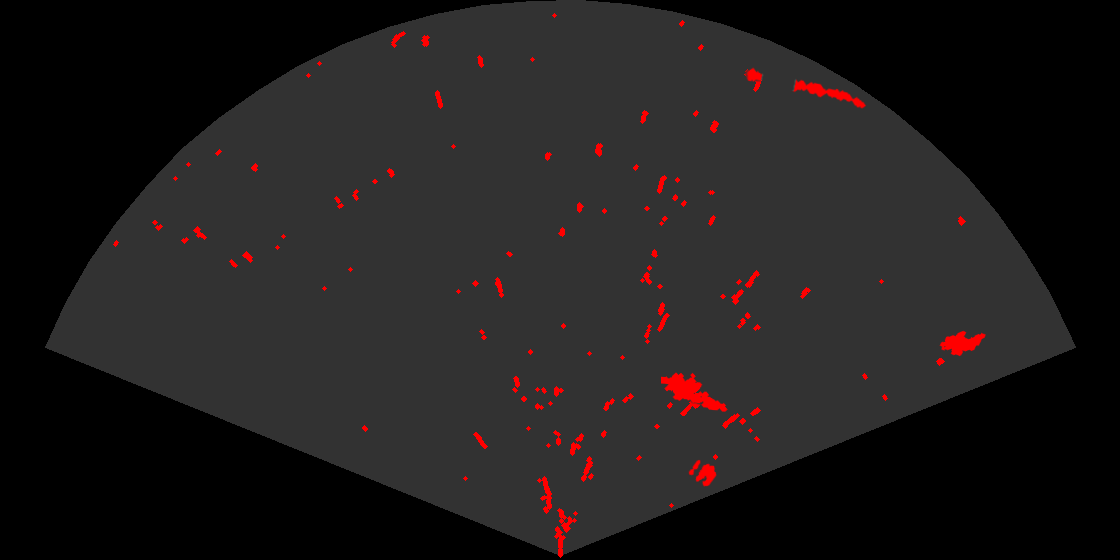AUV: (938, 329, 987, 358)
ball: (687, 458, 718, 488)
chain: (744, 66, 868, 110)
frogman: (661, 371, 729, 413)
